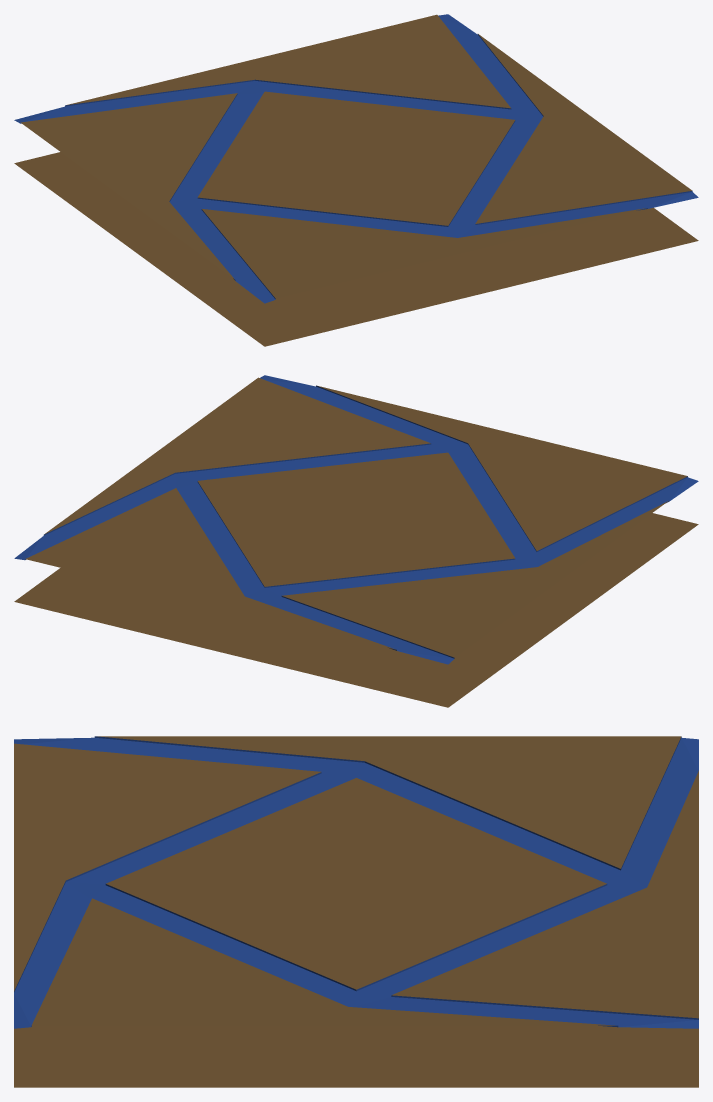
The model's file is FloorPattern1-Atl.fbx.
3 views of the same model, one above another, from view 1: azimuth 30°, elevation 25°; view 2: azimuth 150°, elevation 25°; view 3: azimuth 270°, elevation 25° (orthographic). The views are drawn at different scales.
Parts seen in each view (by area): view 1: Floor pattern; view 2: Floor pattern; view 3: Floor pattern.
Part boxes in pixels (x1,y1,x2,y2): Floor pattern: (14,14,698,346); Floor pattern: (14,375,698,707); Floor pattern: (14,736,698,1087).
Bounding box in the file's own units: 200 × 20 × 200.
